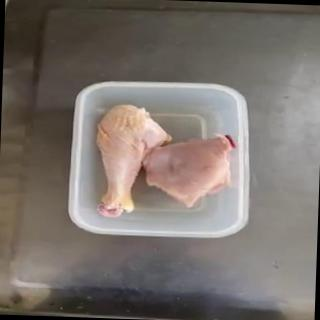Ayam: (94, 104, 175, 221), (141, 132, 239, 210)
